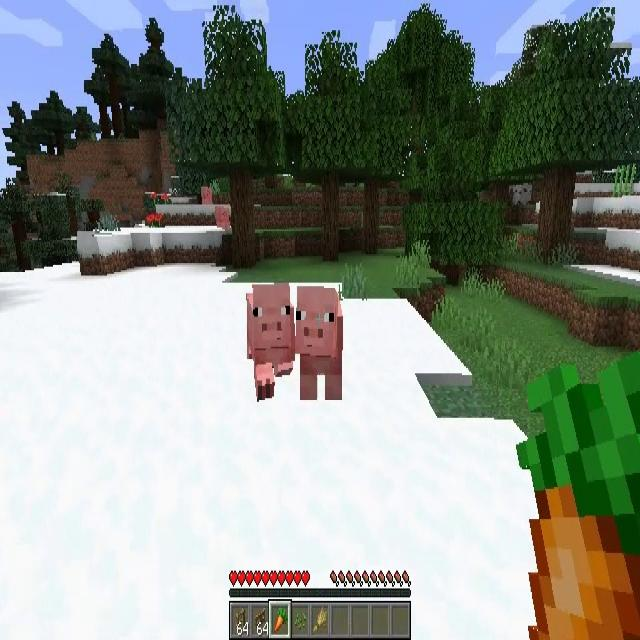pig: (296, 283, 344, 399), (247, 284, 294, 402), (214, 206, 230, 230), (200, 184, 214, 205)
